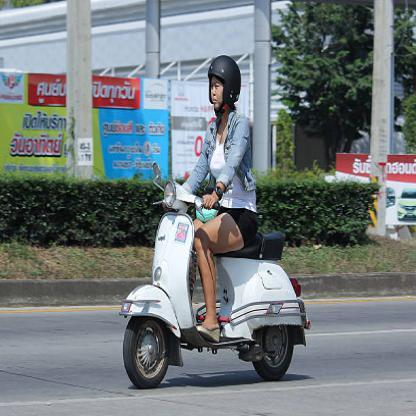Motorcycle: (121, 160, 307, 390)
